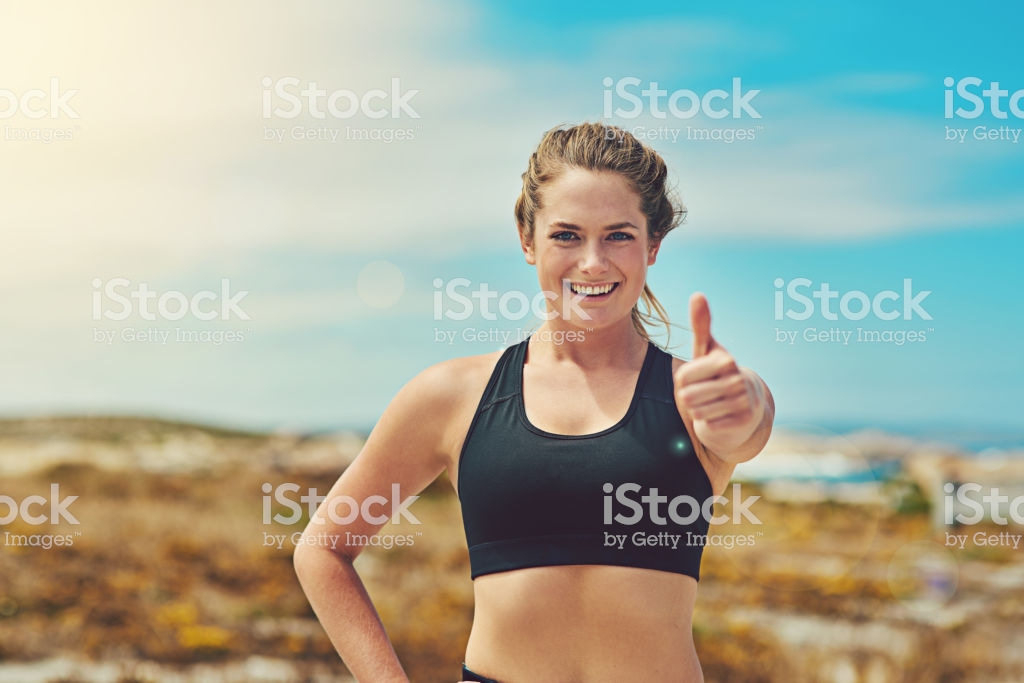thumbsup: (674, 290, 757, 436)
